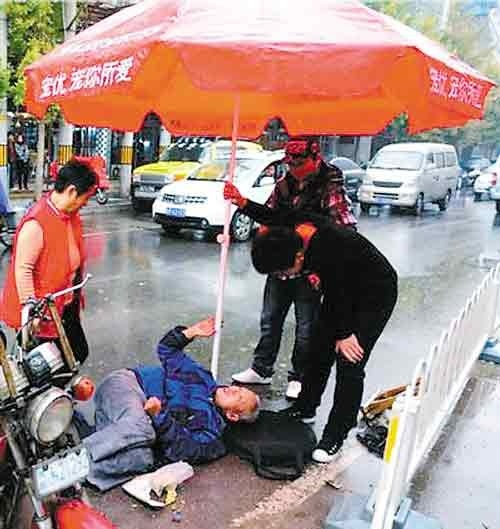falling: (74, 307, 269, 495)
